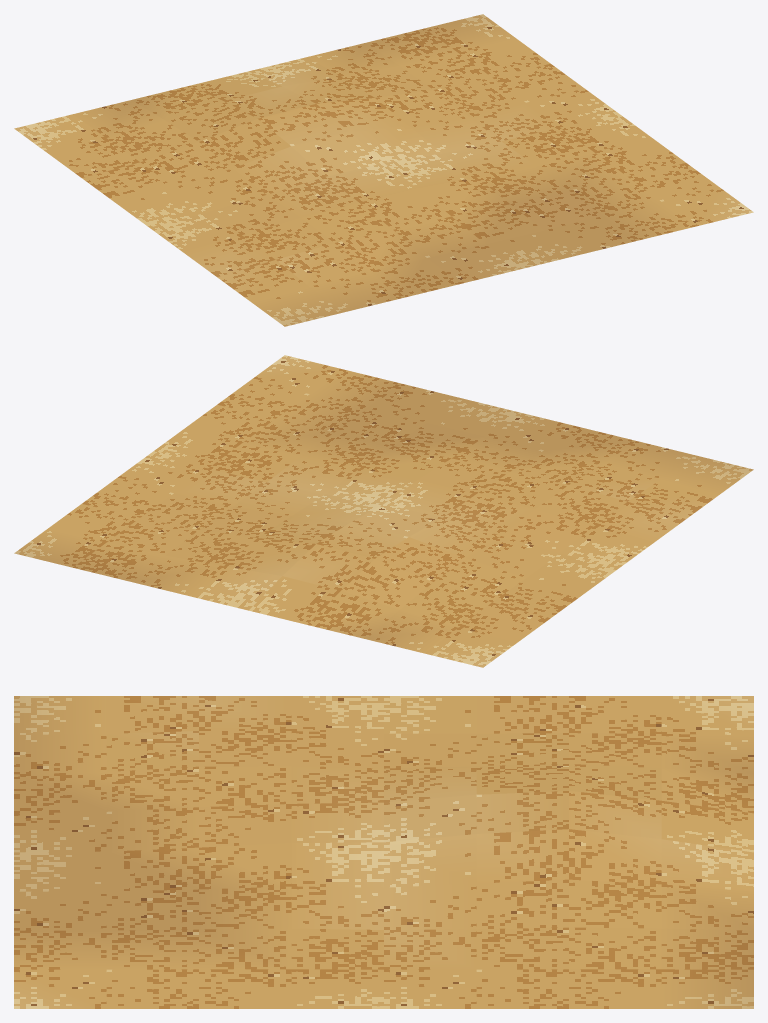
Rendered from wland.ground__dunes.glb.
3 renders of one model, top to bottom at view 1: azimuth 30°, elevation 25°; view 2: azimuth 150°, elevation 25°; view 3: azimuth 270°, elevation 25°, orthographic. The views are drawn at different scales.
Parts seen in each view (by area): view 1: kit_shell_ground; view 2: kit_shell_ground; view 3: kit_shell_ground.
Boxes of the visible parts, x1,y1,x2,y2 form: kit_shell_ground: [14, 14, 753, 326]; kit_shell_ground: [14, 355, 753, 667]; kit_shell_ground: [14, 696, 753, 1008].
Size of the model in its own units: 12 by 0.418 by 12.
1 material, 1 textured.
